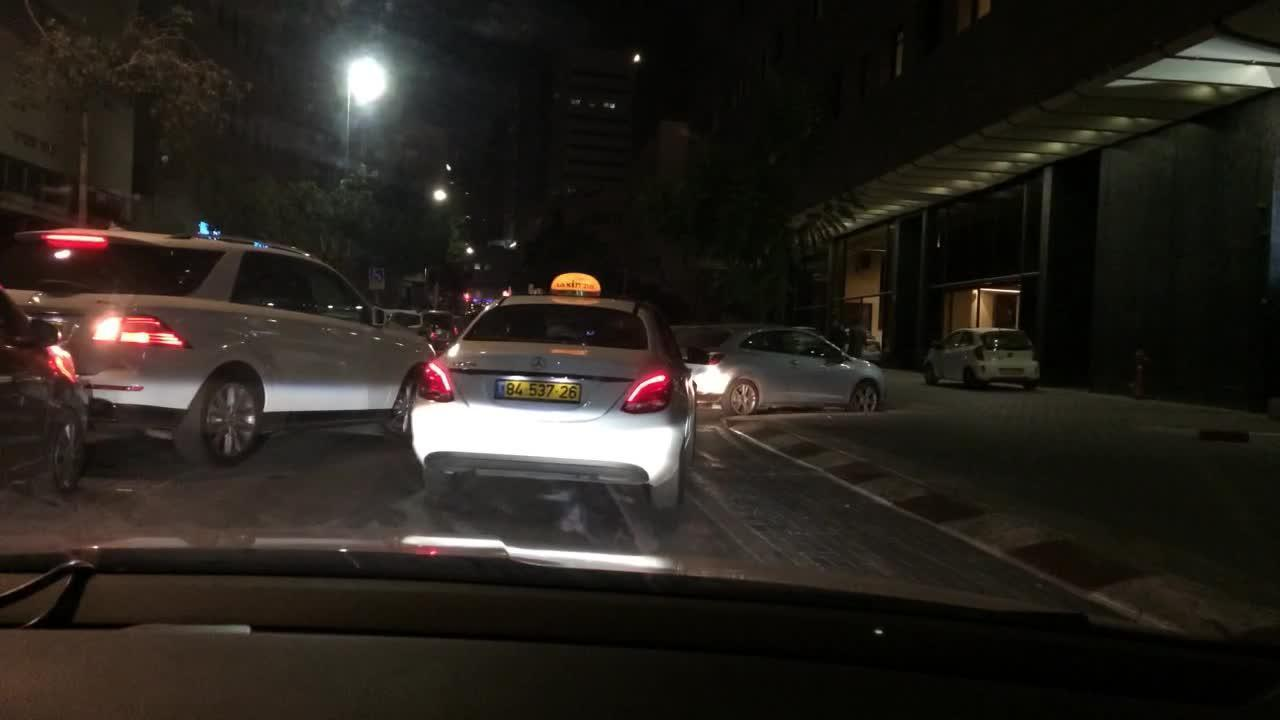Mercedes: (527, 352, 550, 374)
